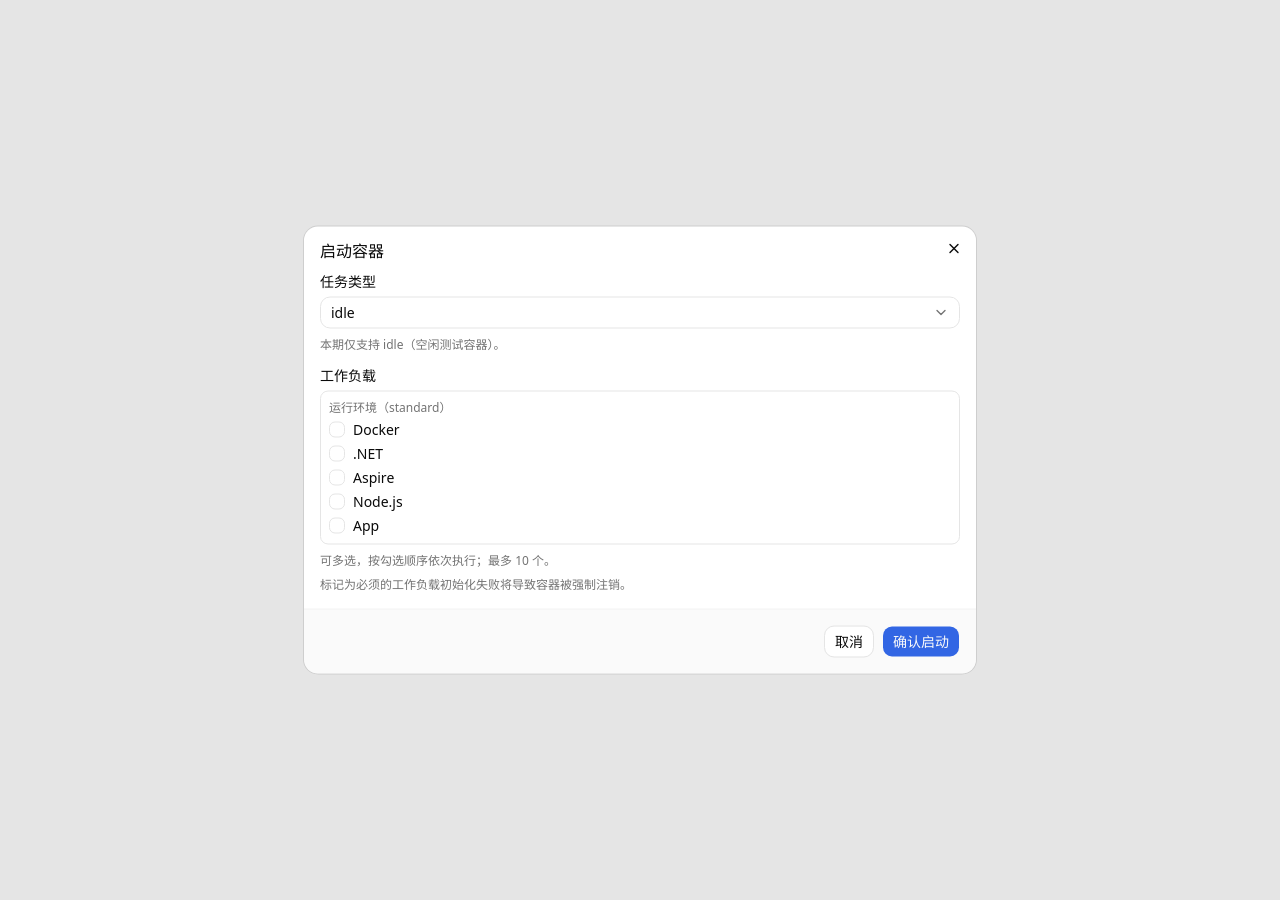
Test: StartContainerDialog (T-FP5/T-FP6/T-FP7) › T-FP5: expands a param form with defaults for a workload that has params
Click the checkbox named "Node.js" at (337, 502), box [329,494,345,510]
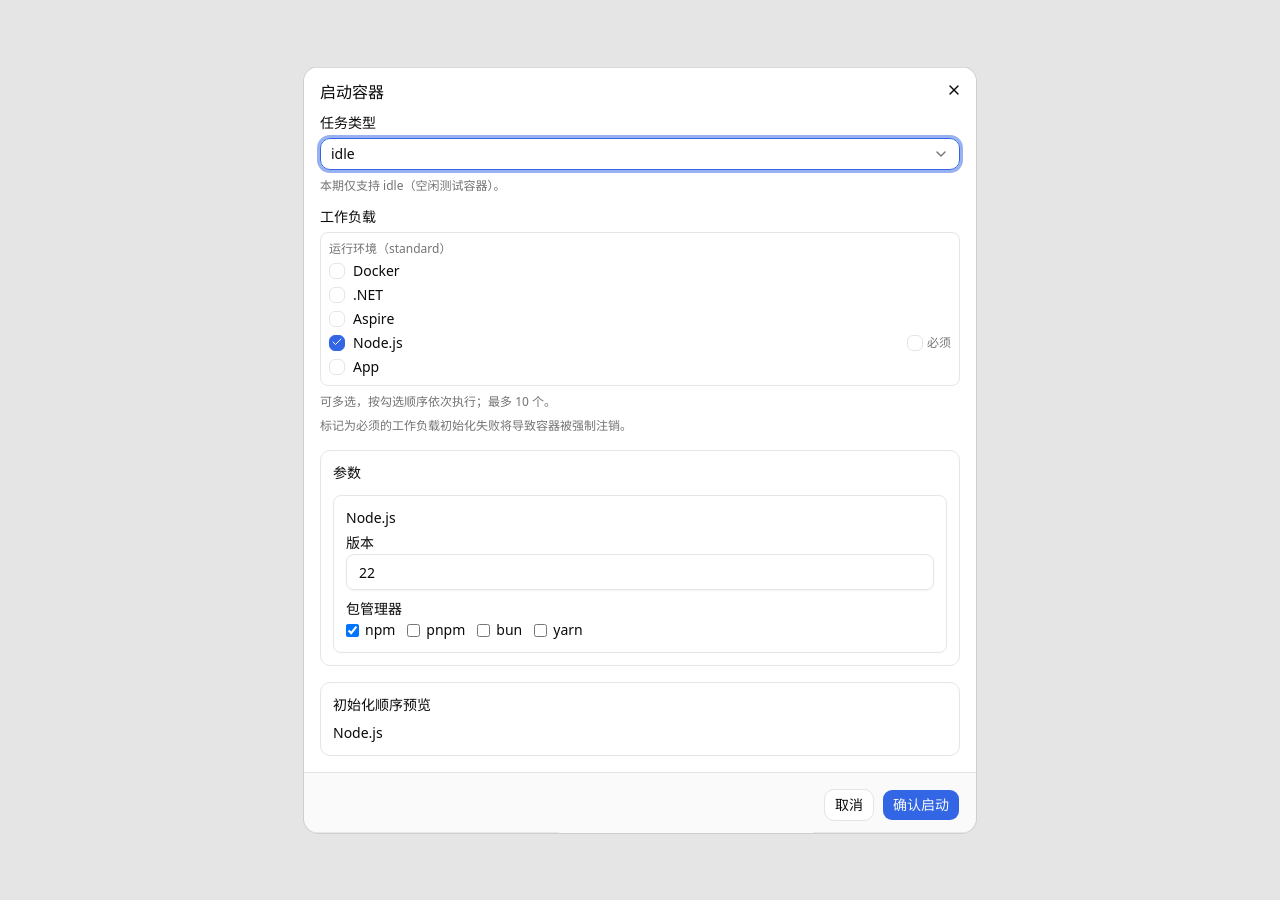
Now the field labelled "版本" holds "22", box [346,554,934,590]
Now the checkbox labelled "npm" is checked, box [346,623,359,636]
Now the checkbox labelled "pnpm" is not checked, box [407,623,420,636]
